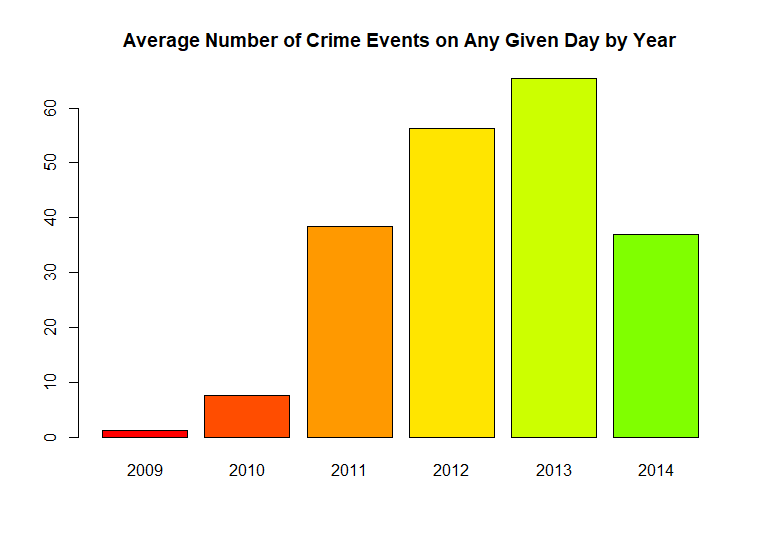

This screenshot's page, from the dashboard's own definition file:
{"tool":"tableau","page":{"name":"Dashboard 1","canvas":[1000,800],"ordinal":0},"visuals":[{"type":"worksheet","title":"Sheet 2","mark":"Bar","rows":["c_violation"],"cols":["j_finding","date2"],"box":[8,8,984,784]}]}

Visuals, with their boxes on the page's 1000x800 design canvas (x1, y1, x2, y2). These are canvas units, not pixel positions in the 763x539 screenshot, which may show the page scaled, cropped or inside an application window:
"Sheet 2" worksheet (Bar marks): 8, 8, 992, 792
